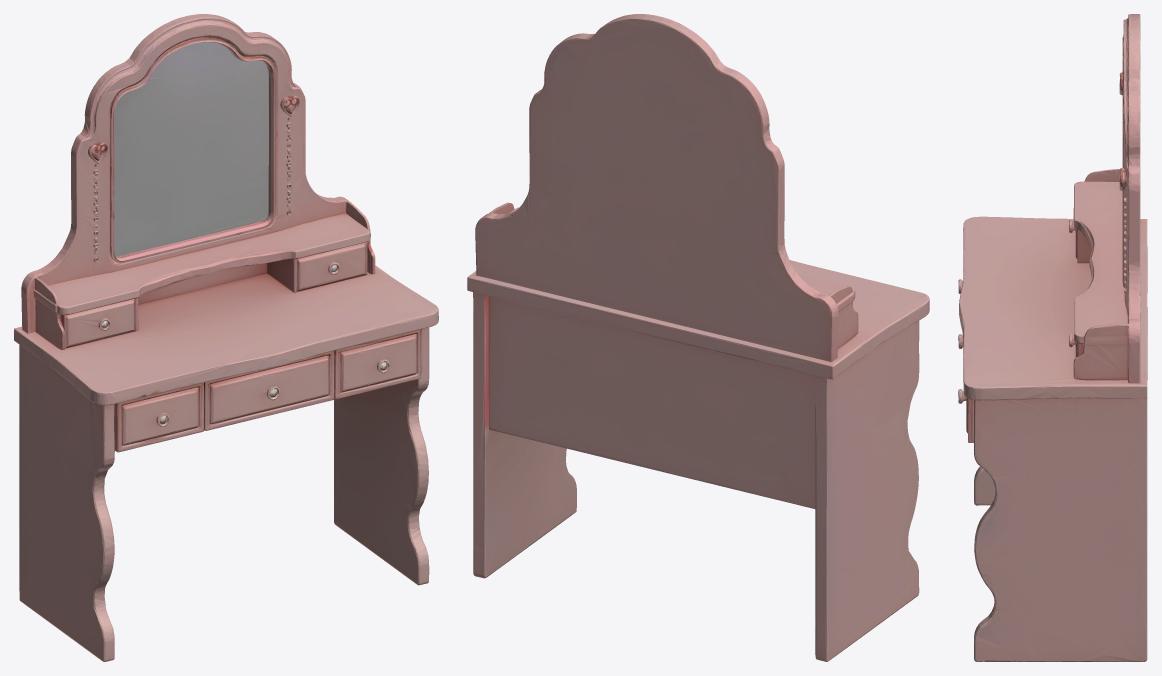
Rendered from pink-vanity.glb.
3 views of the same model, side by side, from view 1: azimuth 30°, elevation 25°; view 2: azimuth 150°, elevation 25°; view 3: azimuth 270°, elevation 25° (orthographic). The views are drawn at different scales.
Visible parts, largest first — view 1: material; view 2: material; view 3: material.
Boxes of the visible parts, box(x1,y1,x2,y2) form: material: box(14, 14, 438, 661); material: box(467, 14, 929, 661); material: box(958, 14, 1147, 661).
Size of the model in its own units: 0.6518 by 0.989 by 0.3033.
Materials: 1 (1 with a texture image).
